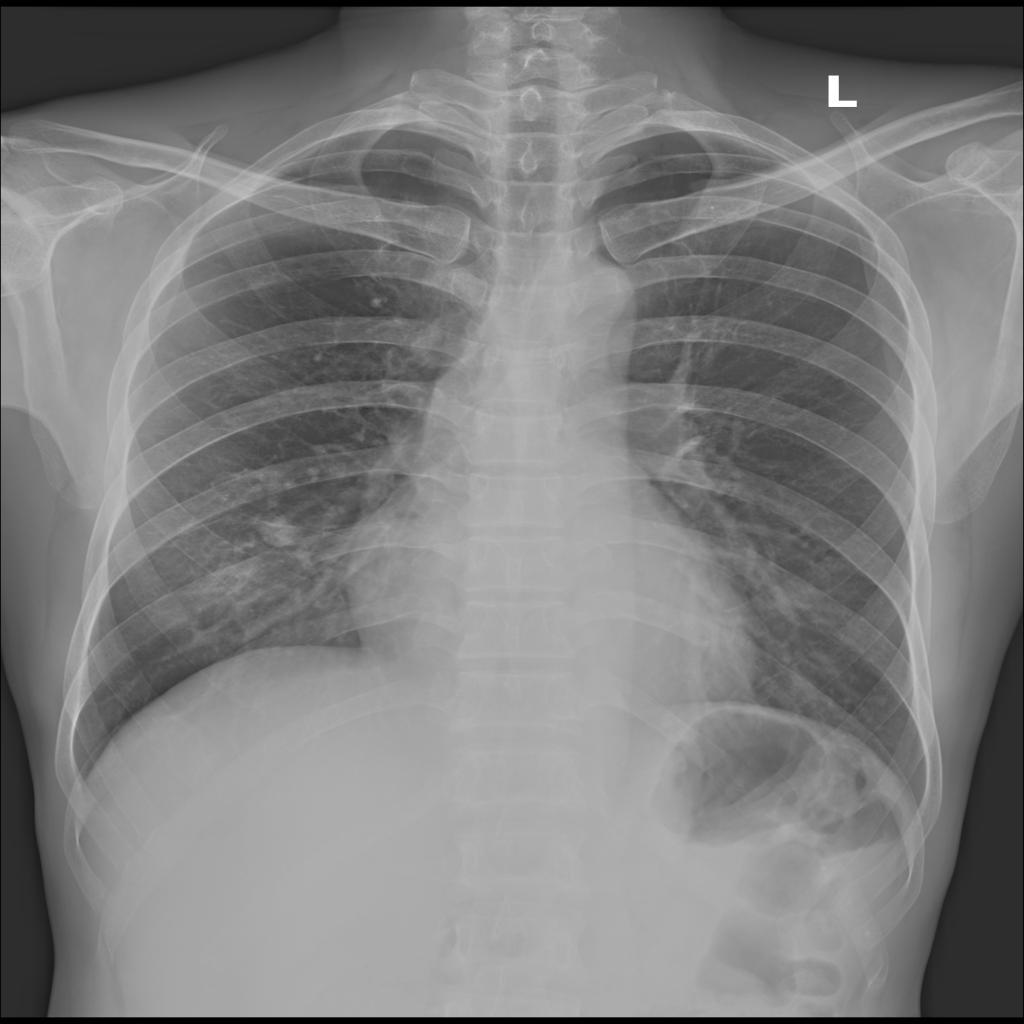Nodule: (259, 514, 303, 548)
